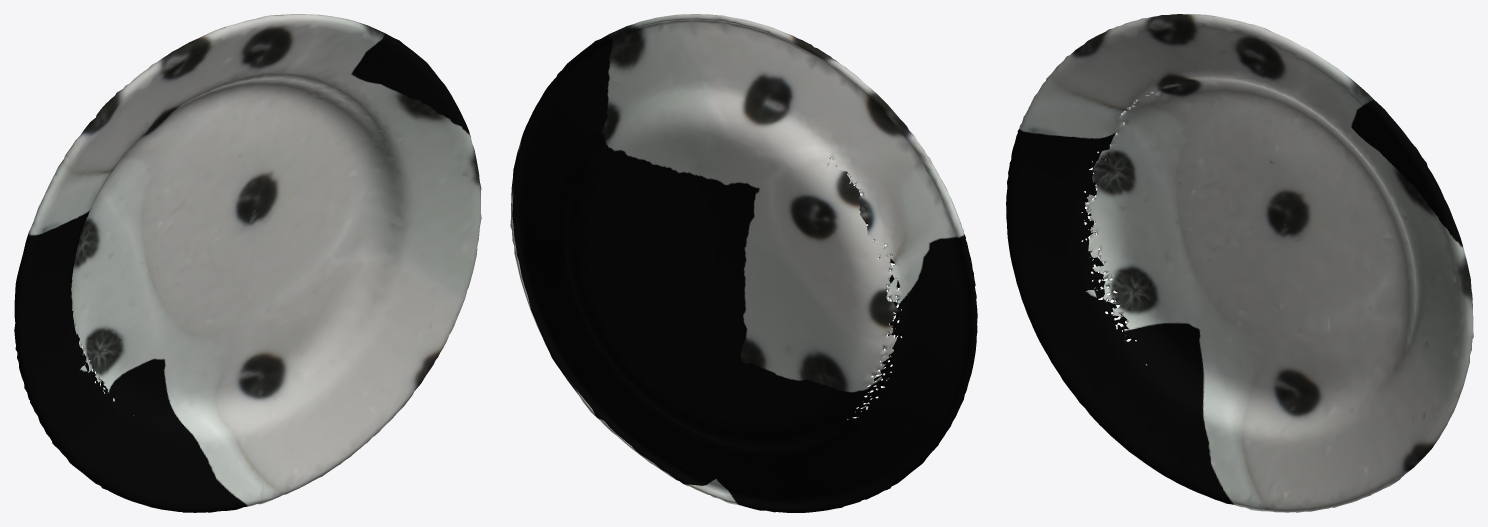
The picture shows the model from 3 angles, left to right: view 1: azimuth 30°, elevation 25°; view 2: azimuth 150°, elevation 25°; view 3: azimuth 330°, elevation 25°; orthographic projection.
Visible parts, largest first — view 1: textured.024; view 2: textured.024; view 3: textured.024.
Part boxes in pixels (x1,y1,x2,y2): textured.024: (14,14,481,512); textured.024: (510,14,977,512); textured.024: (1006,14,1473,512).
Size of the model in its own units: 0.2611 by 0.2601 by 0.0267.
